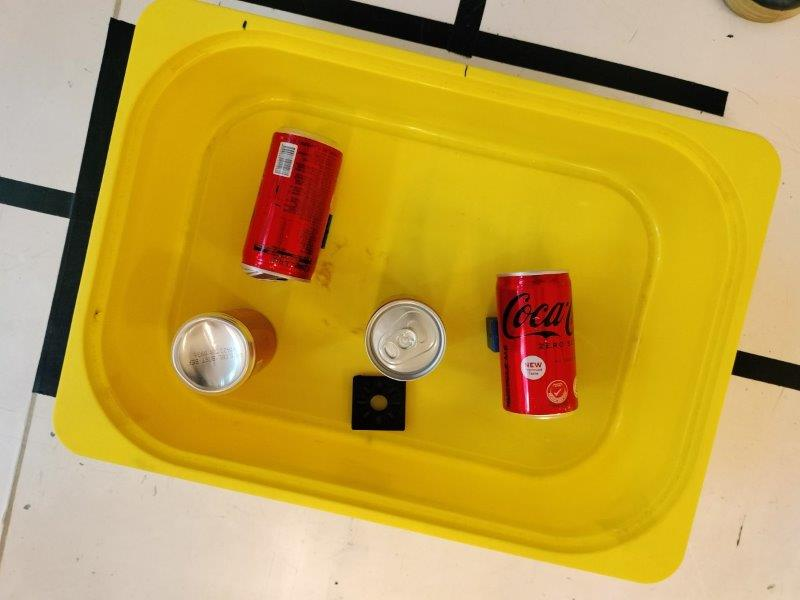Coke: (240, 130, 345, 282), (495, 270, 579, 417), (171, 307, 278, 395), (365, 297, 447, 382)
